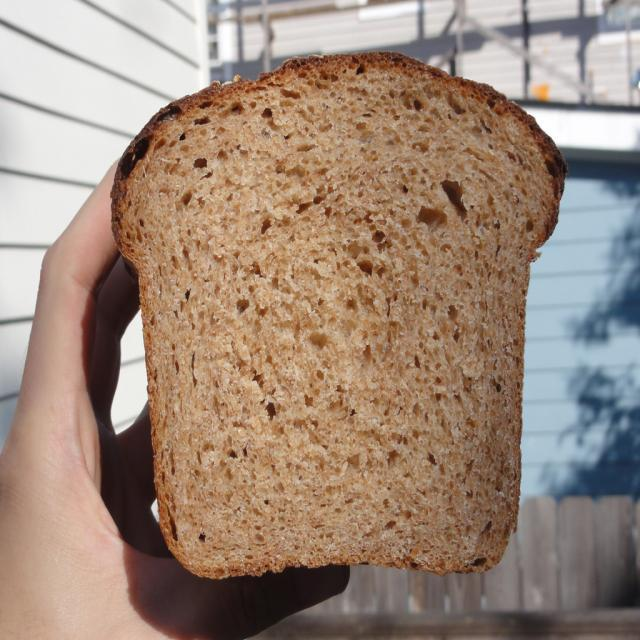Bread: (106, 23, 529, 587)
